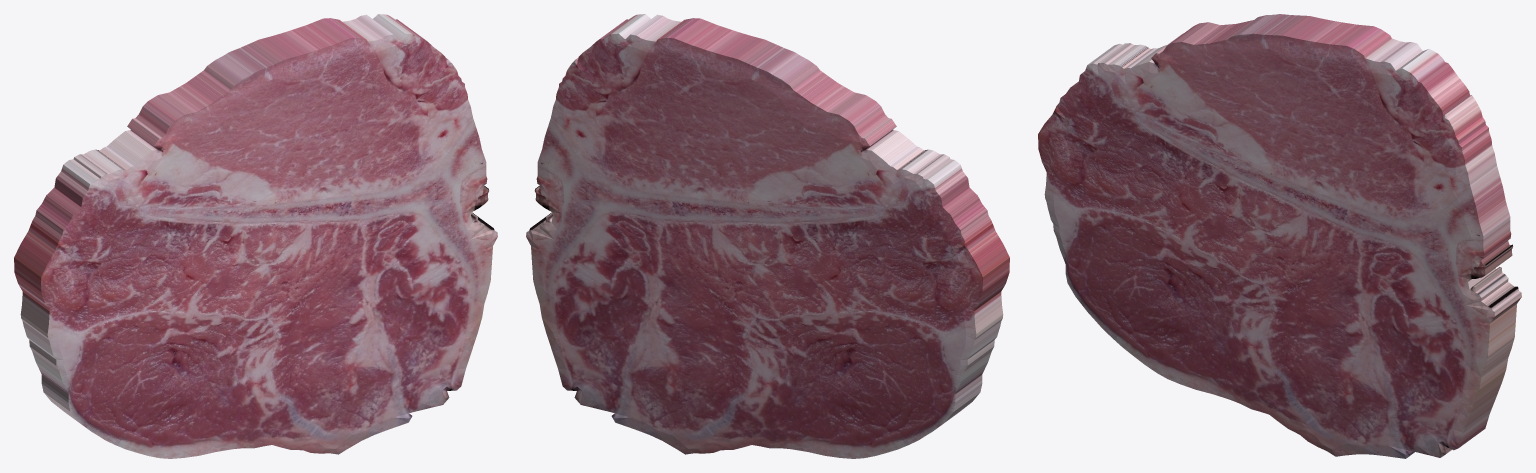
File: steak.obj
The picture shows the model from 3 angles, left to right: view 1: azimuth 30°, elevation 25°; view 2: azimuth 150°, elevation 25°; view 3: azimuth 330°, elevation 25°; orthographic projection.
Bounding box in the file's own units: 8.26 × 7.14 × 0.8794.
